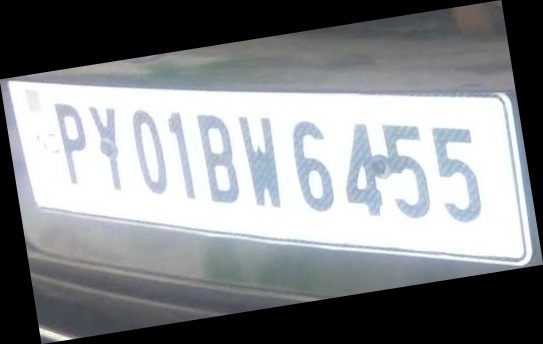character: (429, 124, 481, 223), (380, 121, 431, 220), (235, 113, 281, 208), (290, 118, 335, 213), (193, 111, 238, 202), (344, 120, 380, 218), (85, 101, 122, 192), (129, 107, 167, 195), (51, 99, 87, 186), (165, 108, 197, 199)
